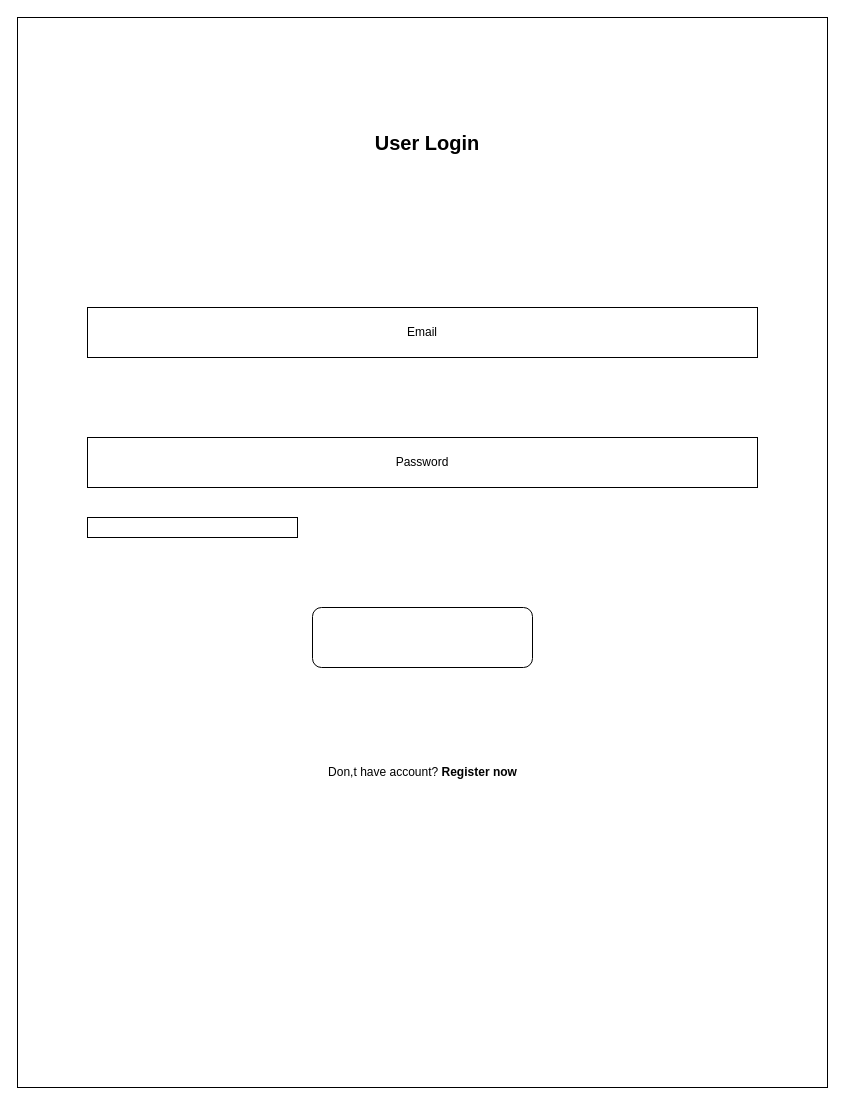
Some shapes in this 845 by 1105 pixel diagram are drawn without their labels. The box of each missing label's shape, as (x1, y1, x2, y2) in pixels:
forgot password?: (86, 516, 298, 538)
Login: (312, 606, 532, 668)
